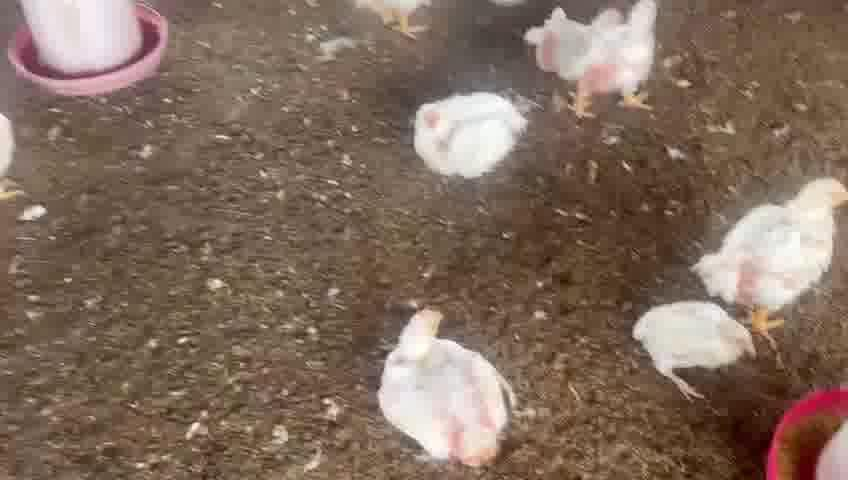AbNormal: (630, 278, 756, 419)
Normal: (370, 304, 521, 465), (710, 168, 848, 301), (522, 0, 677, 111), (410, 93, 530, 179)
